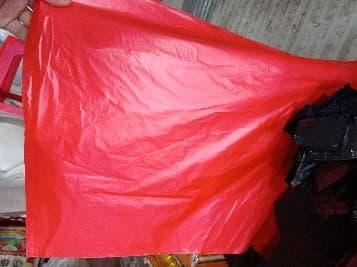Plastik: (12, 0, 347, 258)
